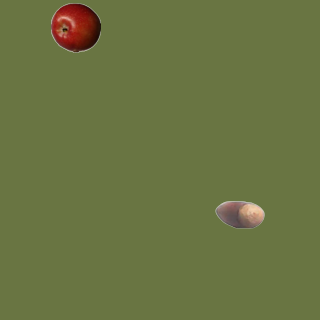Apple Braeburn: (50, 2, 100, 52)
Hazelnut: (214, 189, 264, 239)
